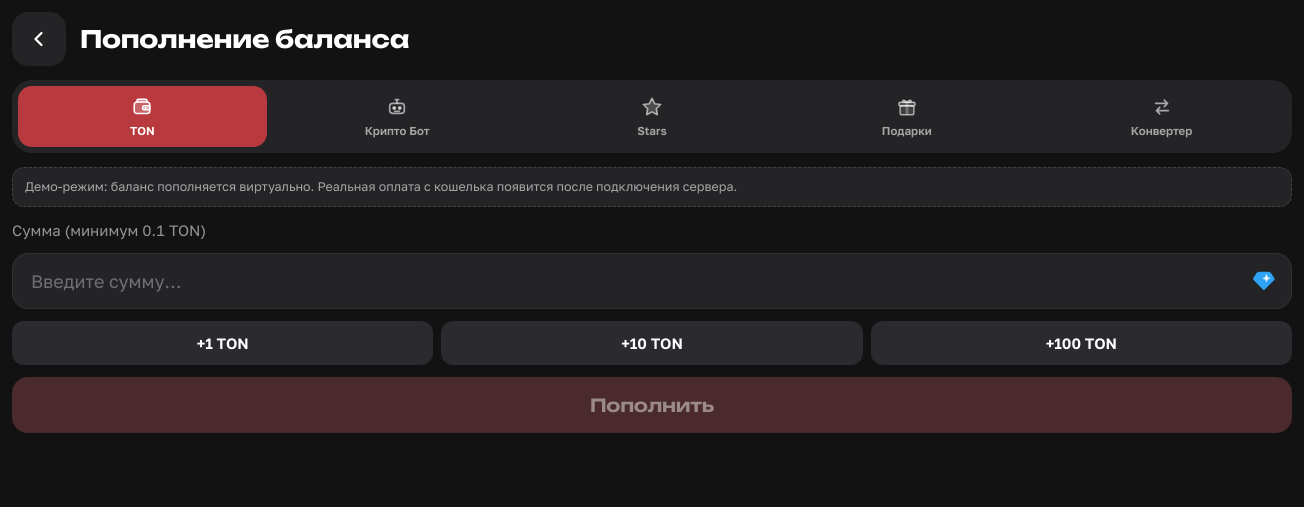
Scenario: DepositScreen (пополнение баланса) › TON: «Пополнить» неактивна до 0.1 TON, быстрые суммы складываются, баланс растёт
Expected: the button "Пополнить" is disabled, [12,377,1292,433]
Type "0.05" into the field labelled "Сумма (минимум 0.1 TON)".
click(636, 281); type("0.05")  # box [29,269,1243,293]
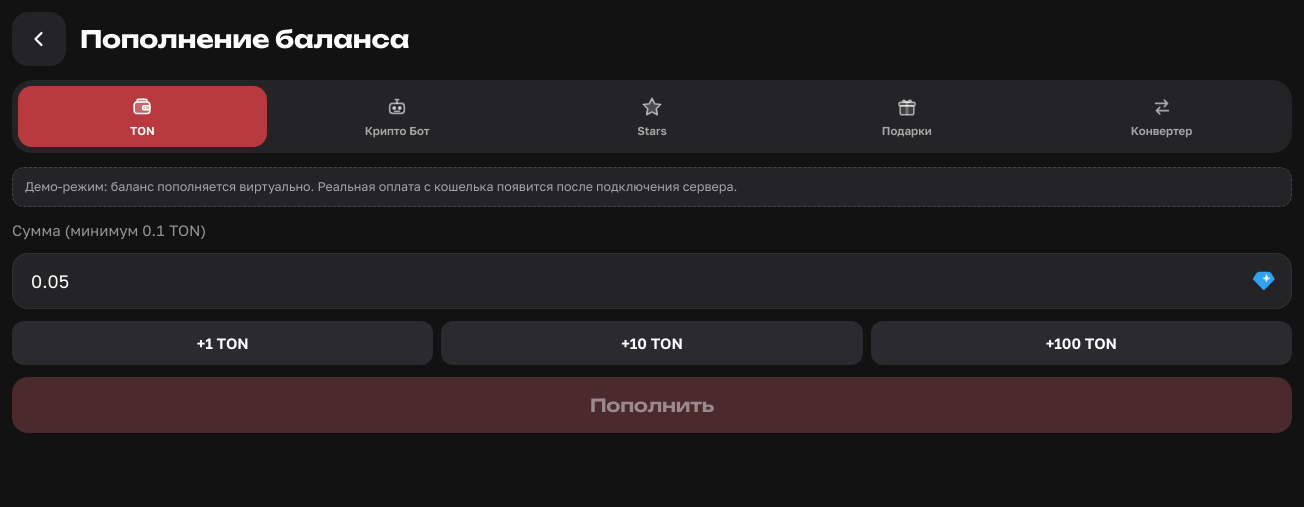
Expected: the button "Пополнить" is disabled, [12,377,1292,433]
Clear the field labelled "Сумма (минимум 0.1 TON)" at (636, 281), box [29,269,1243,293]
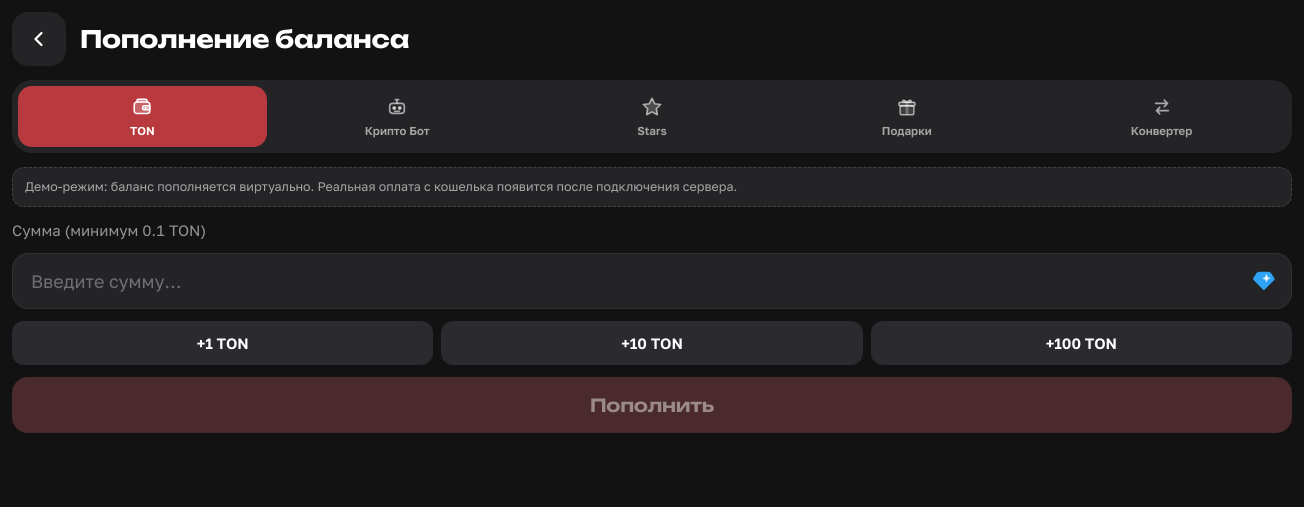
Click the button "+10 TON".
click(652, 343)  # box [441,321,863,365]
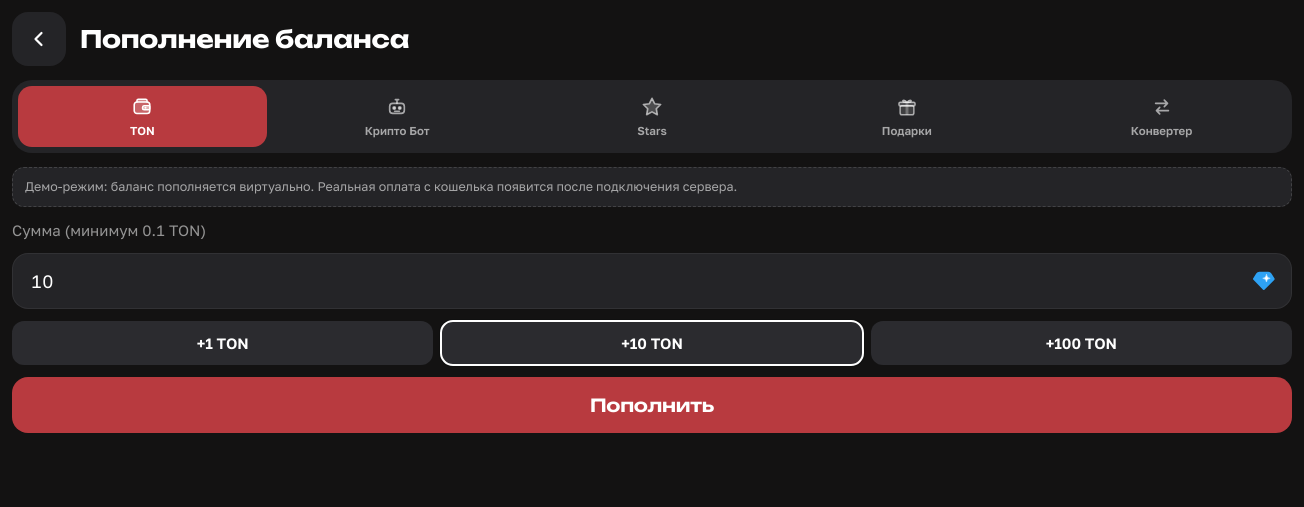
Click the button "+1 TON".
click(223, 343)  # box [12,321,433,365]
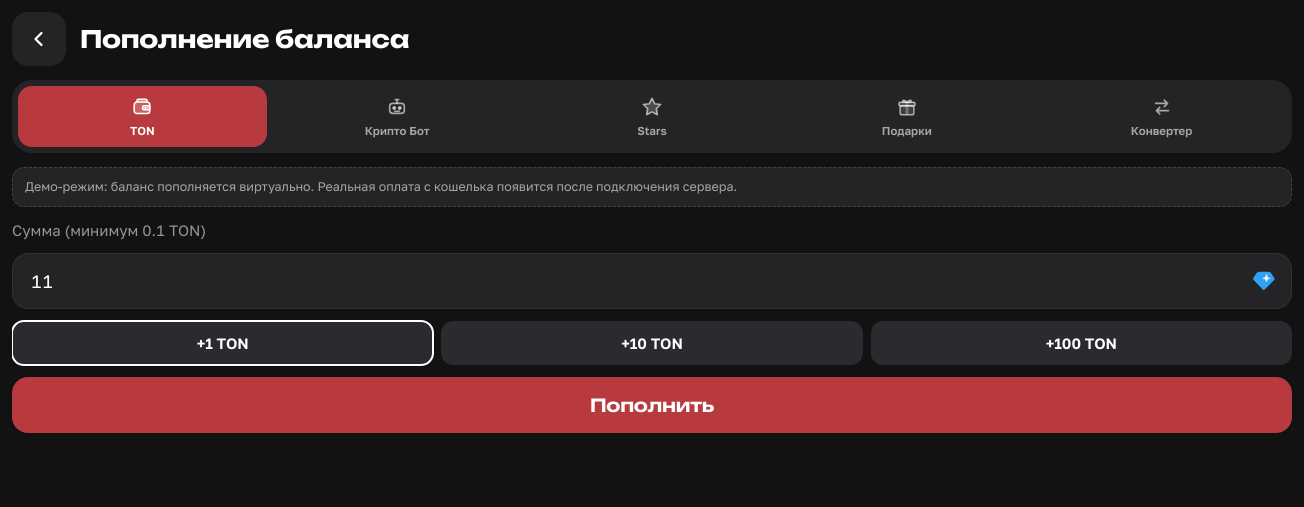
Expected: the field labelled "Сумма (минимум 0.1 TON)" holds "11", [29,269,1243,293]
Click the button "Пополнить".
click(652, 405)  # box [12,377,1292,433]
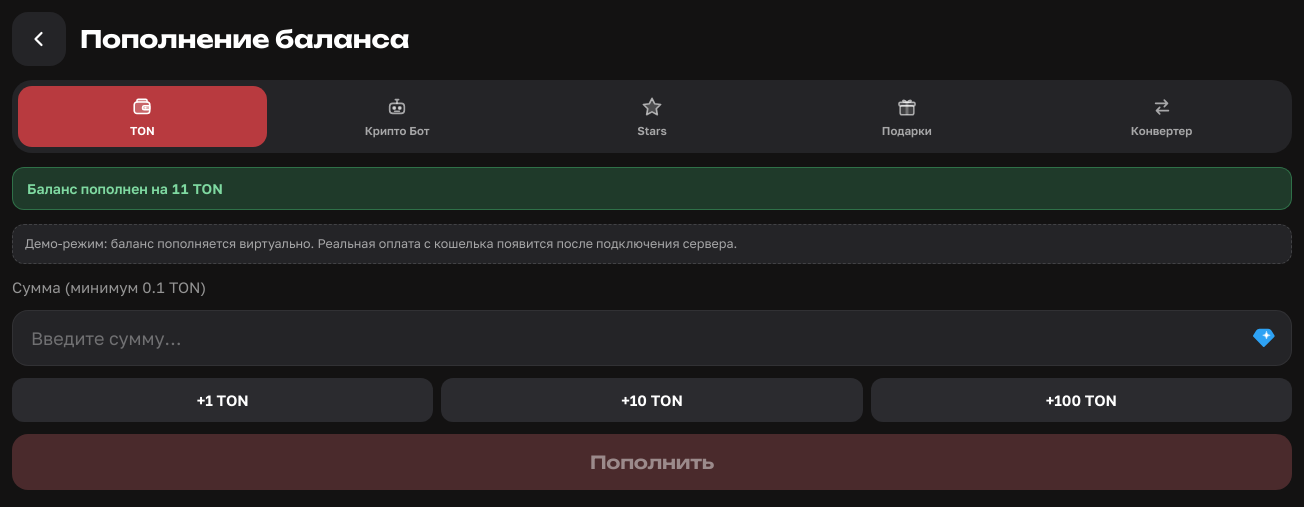
Expected: the message reads "Баланс пополнен на 11 TON", [27,180,223,197]
